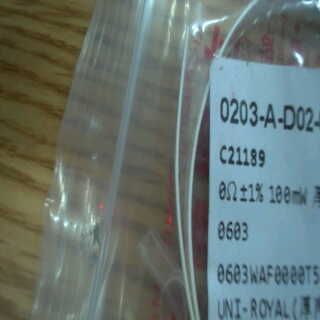0R: (213, 173, 313, 247)
